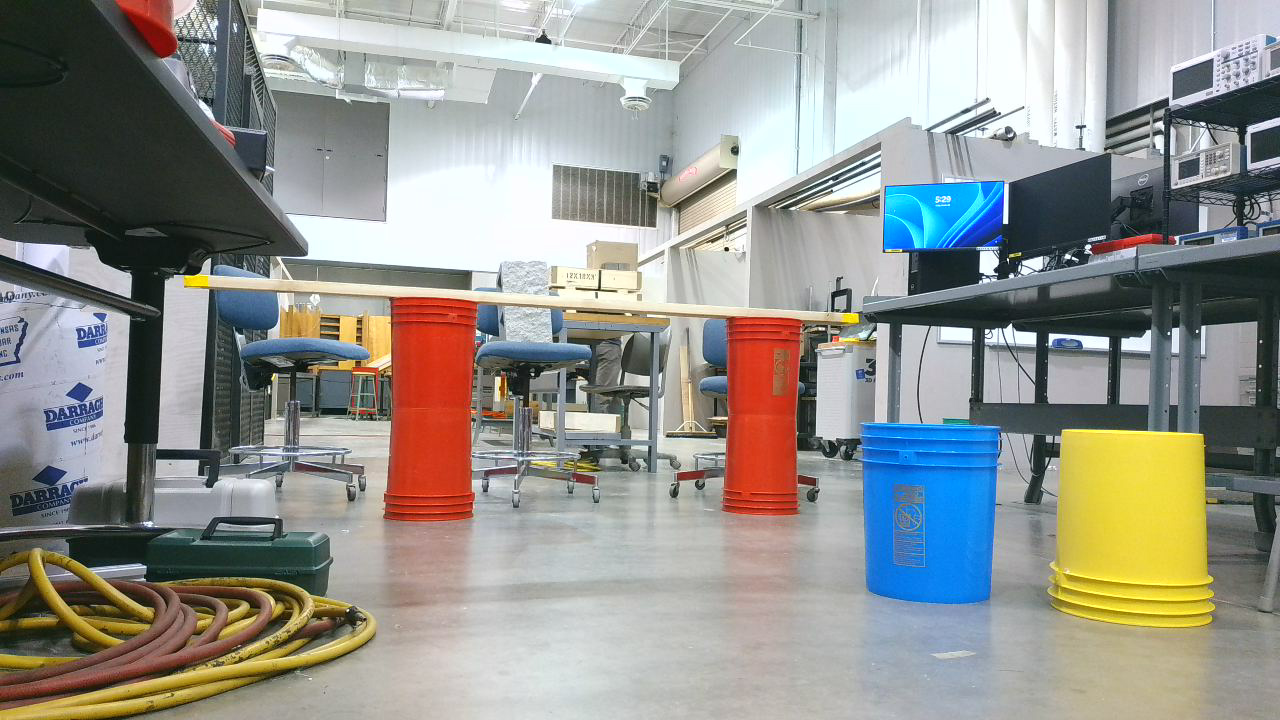blue_bucket: (860, 420, 1009, 612)
red_bucket_arch: (385, 294, 813, 528)
yellow_bucket: (1048, 430, 1222, 637)
